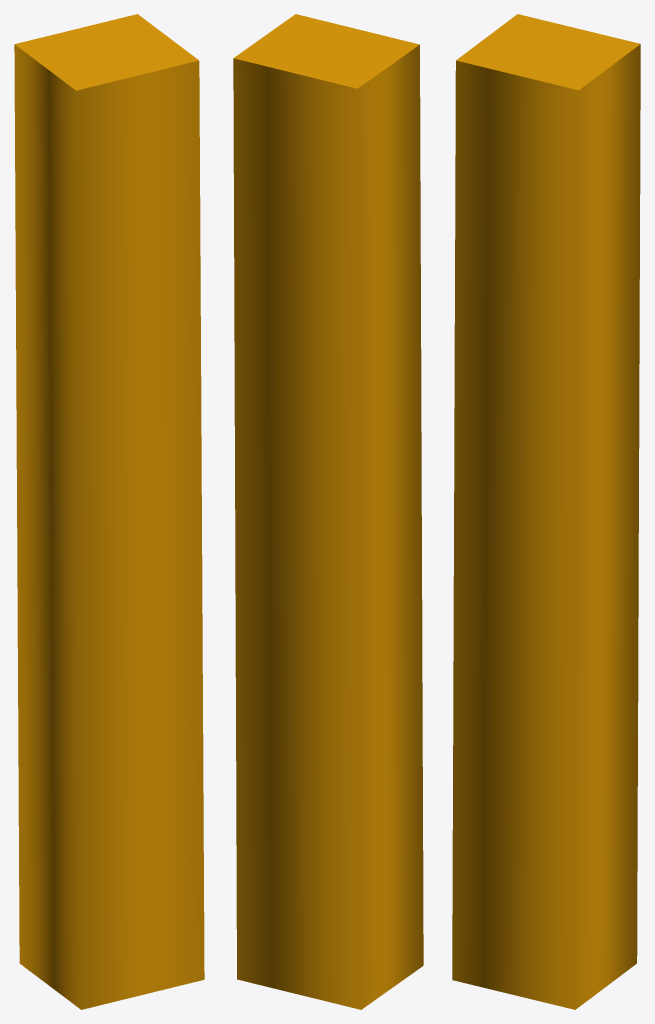
Rendered from Stick_02_Cut_02.fbx.
3 renders of one model, left to right at view 1: azimuth 30°, elevation 25°; view 2: azimuth 150°, elevation 25°; view 3: azimuth 330°, elevation 25°, orthographic.
Visible parts, largest first — view 1: Stick_02_Cut_02; view 2: Stick_02_Cut_02; view 3: Stick_02_Cut_02.
Boxes of the visible parts, x1=… form: Stick_02_Cut_02: x1=14, y1=14, x2=204, y2=1009; Stick_02_Cut_02: x1=233, y1=14, x2=423, y2=1009; Stick_02_Cut_02: x1=452, y1=14, x2=640, y2=1009.
Bounding box in the file's own units: 6.17 × 43.7 × 5.71.
